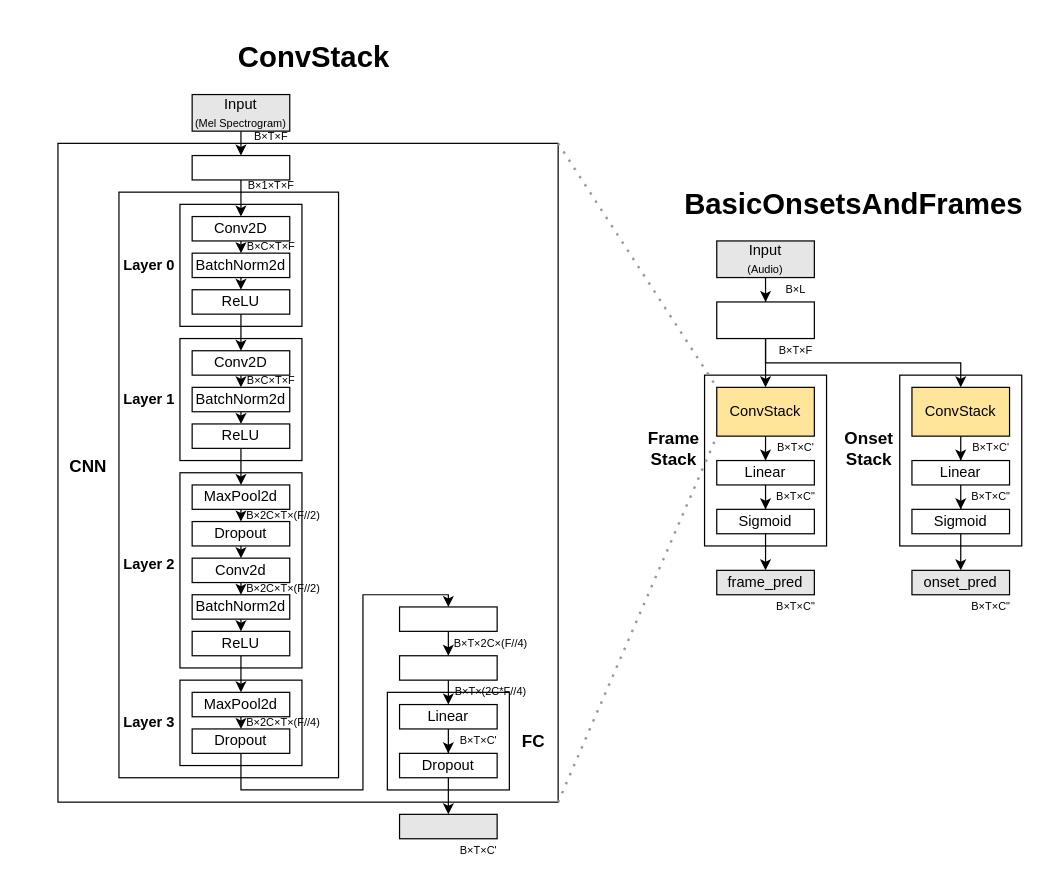
Some shapes in this 1060 by 889 pixel diagram are drawn without their labels. The box of each missing label's shape, as (x1, y1, x2, y2) in pixels:
flatten: (398, 655, 497, 680)
LogMel Spectrogram: (716, 301, 814, 339)
Output: (398, 813, 497, 839)
Transpose: (398, 606, 497, 631)
Unsqueeze: (191, 154, 290, 180)
